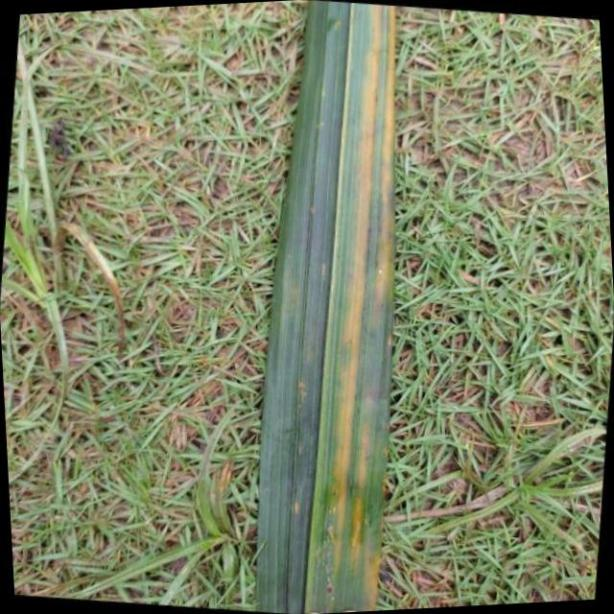Megnesium: (261, 0, 393, 614)
